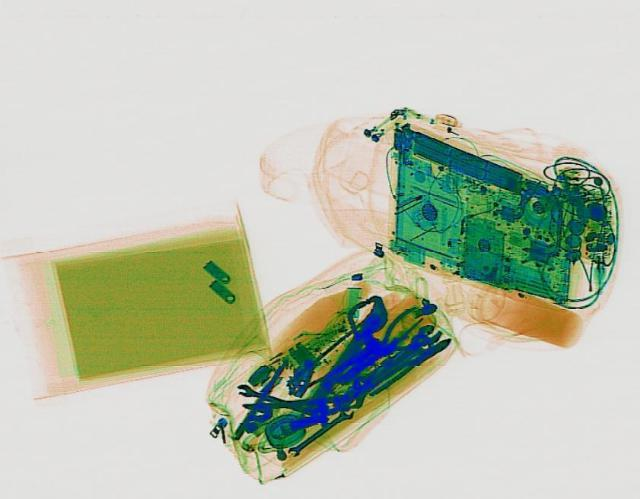Pliers: (342, 304, 446, 375)
Wrench: (282, 404, 358, 459), (232, 381, 318, 419)
